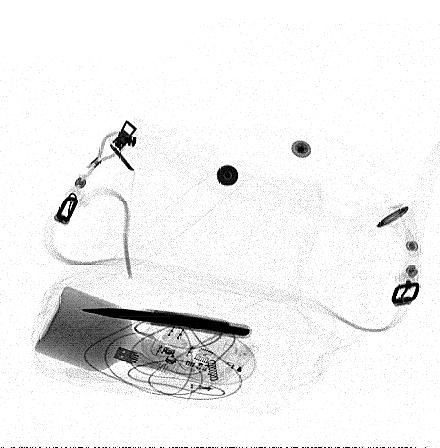Pliers: (73, 305, 254, 338)
